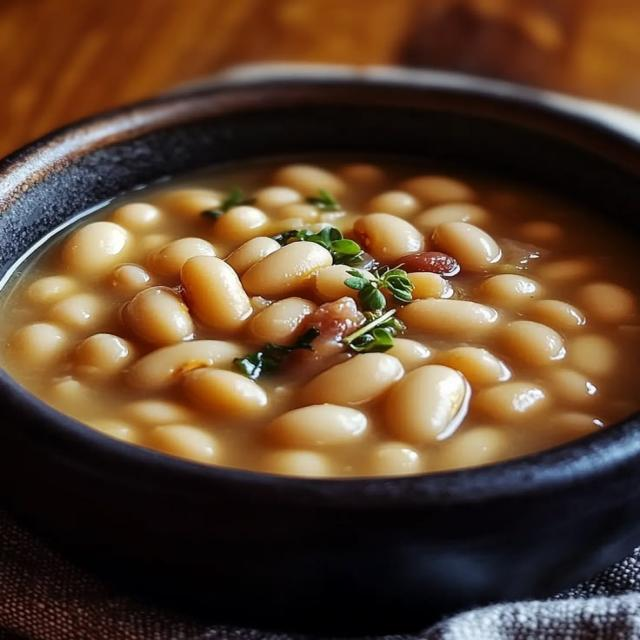beans: (386, 365, 470, 442), (127, 340, 246, 390), (181, 256, 253, 333), (303, 353, 404, 405), (242, 242, 332, 298), (266, 404, 367, 447), (184, 368, 267, 419), (122, 287, 194, 345), (398, 299, 499, 337), (61, 222, 129, 277), (354, 213, 424, 262), (433, 222, 501, 270), (249, 297, 316, 345), (474, 381, 549, 422), (437, 427, 508, 469), (435, 347, 511, 386), (499, 321, 566, 365), (145, 425, 219, 463), (147, 238, 216, 277), (9, 323, 68, 367), (74, 334, 134, 377), (412, 203, 490, 234), (577, 283, 637, 323), (274, 165, 346, 197), (213, 206, 268, 247), (567, 335, 619, 377), (47, 293, 107, 329), (478, 275, 541, 309), (401, 176, 474, 204), (226, 237, 279, 275), (158, 189, 223, 219), (261, 450, 332, 477), (47, 376, 94, 415), (527, 300, 586, 331), (124, 400, 193, 426), (547, 369, 597, 404), (369, 442, 422, 475), (551, 412, 603, 443), (535, 258, 597, 283), (111, 203, 162, 232), (315, 265, 356, 301), (387, 338, 431, 371), (399, 252, 459, 276), (27, 276, 77, 304), (367, 191, 420, 217), (254, 186, 302, 212), (87, 419, 138, 443), (516, 221, 564, 245), (409, 273, 453, 299), (112, 264, 151, 293), (339, 164, 386, 187), (263, 218, 315, 236), (136, 233, 176, 256), (274, 203, 319, 223)
